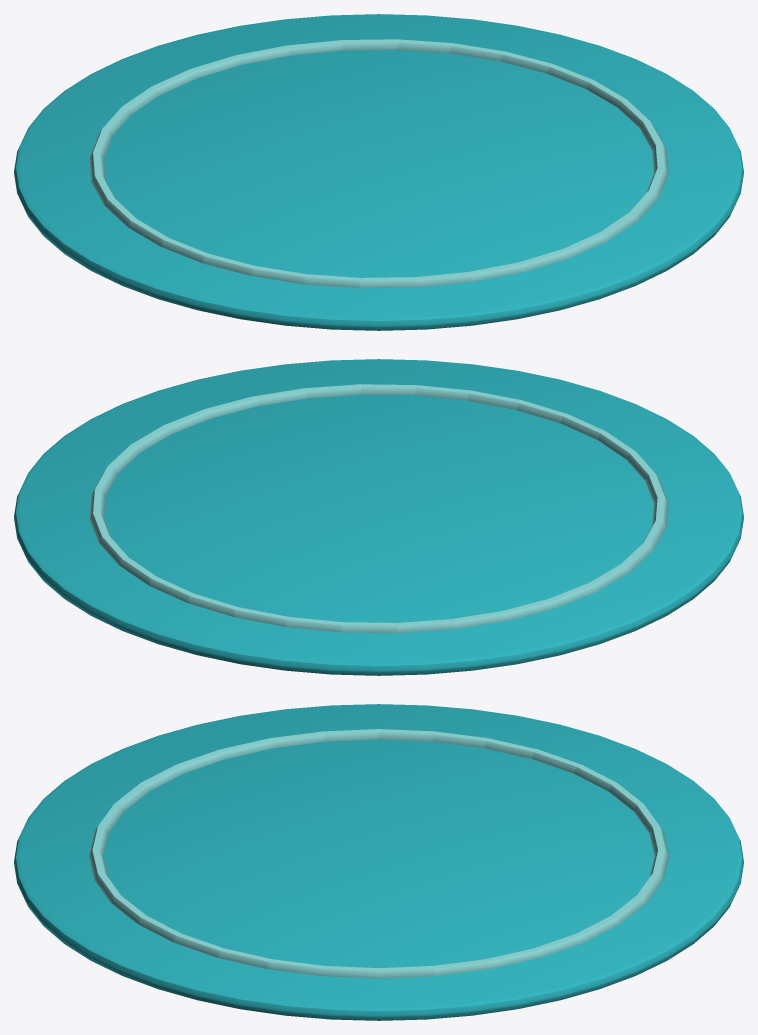
File: tapete_banheiro_redondo_turquesa.glb
The picture shows the model from 3 angles, top to bottom: view 1: azimuth 30°, elevation 25°; view 2: azimuth 150°, elevation 25°; view 3: azimuth 270°, elevation 25°; orthographic projection.
Parts seen in each view (by area): view 1: tapete_banheiro_redondo_turquesa; view 2: tapete_banheiro_redondo_turquesa; view 3: tapete_banheiro_redondo_turquesa.
Boxes of the visible parts, x1=… form: tapete_banheiro_redondo_turquesa: x1=14, y1=14, x2=743, y2=330; tapete_banheiro_redondo_turquesa: x1=14, y1=359, x2=743, y2=675; tapete_banheiro_redondo_turquesa: x1=14, y1=704, x2=743, y2=1020.
Size of the model in its own units: 0.8 by 0.0229 by 0.8.
Materials: 1 (1 with a texture image).
